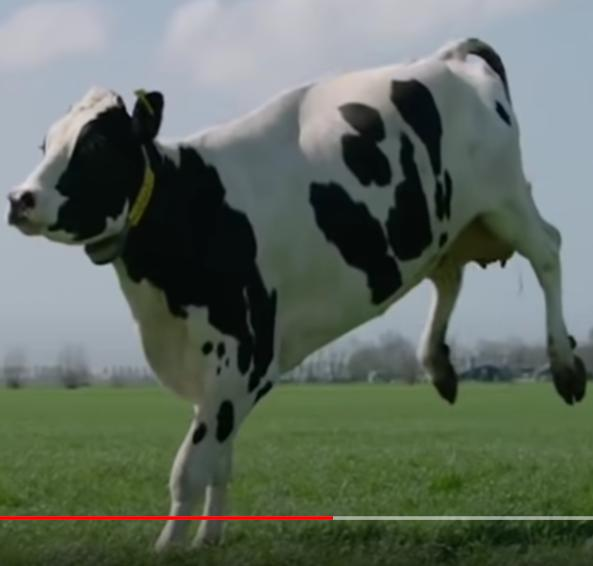cow: (9, 39, 591, 553)
